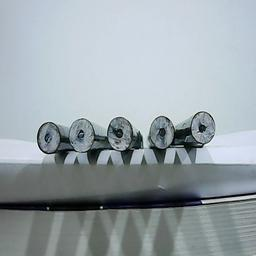pen: (67, 117, 94, 152), (34, 120, 61, 153), (105, 116, 132, 149), (148, 115, 175, 148), (189, 111, 216, 144)
